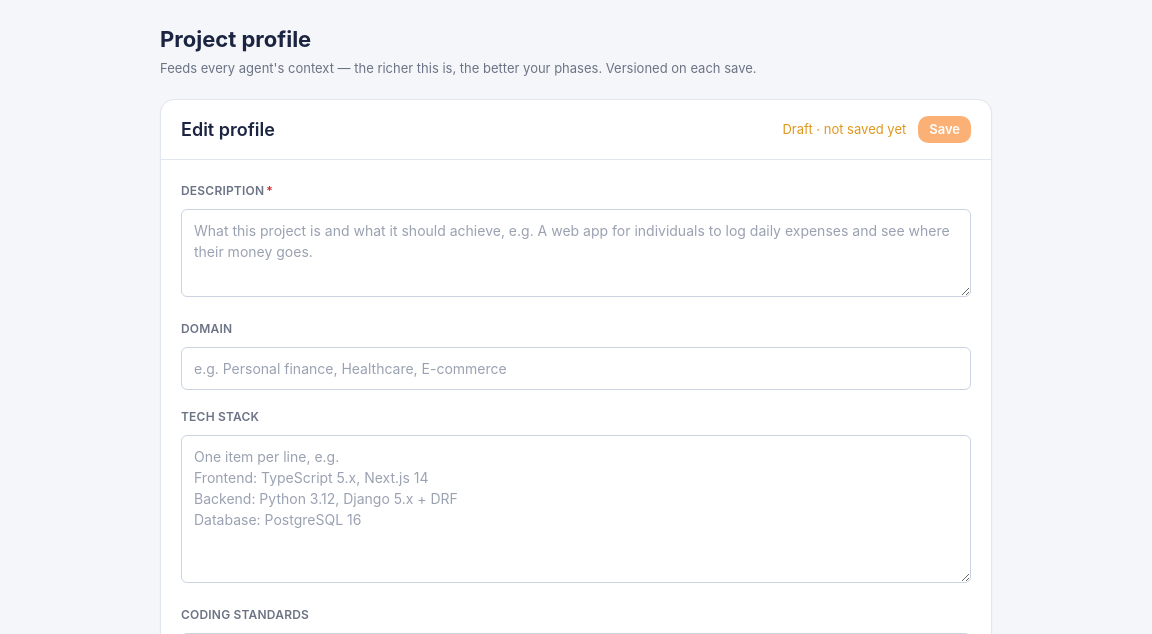
Test: pressing Save with no description › says why, instead of doing nothing
The width and height of the screenshot is (1152, 634).
Note: Make the form dirty so Save is live, exactly as a real user would.
In the field with placeholder "e.g. Personal finance, Healthcare, E-commerce": (576, 368) top-left (181, 347), bottom-right (971, 390), type "Personal finance"
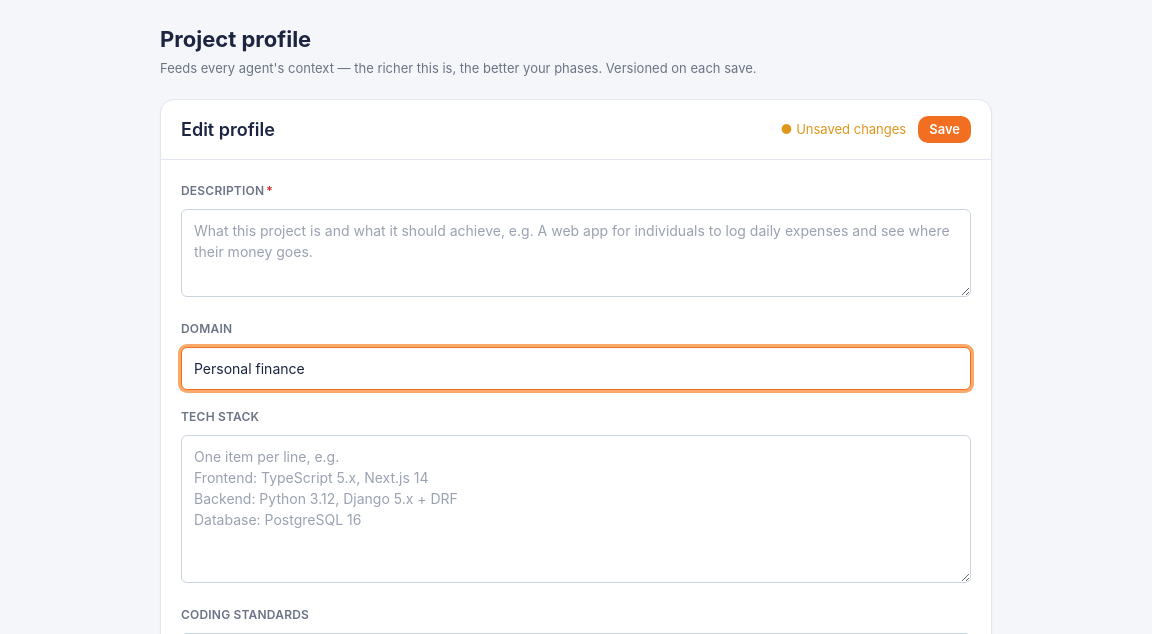
Click the button "Save": (945, 130) top-left (918, 116), bottom-right (971, 143)
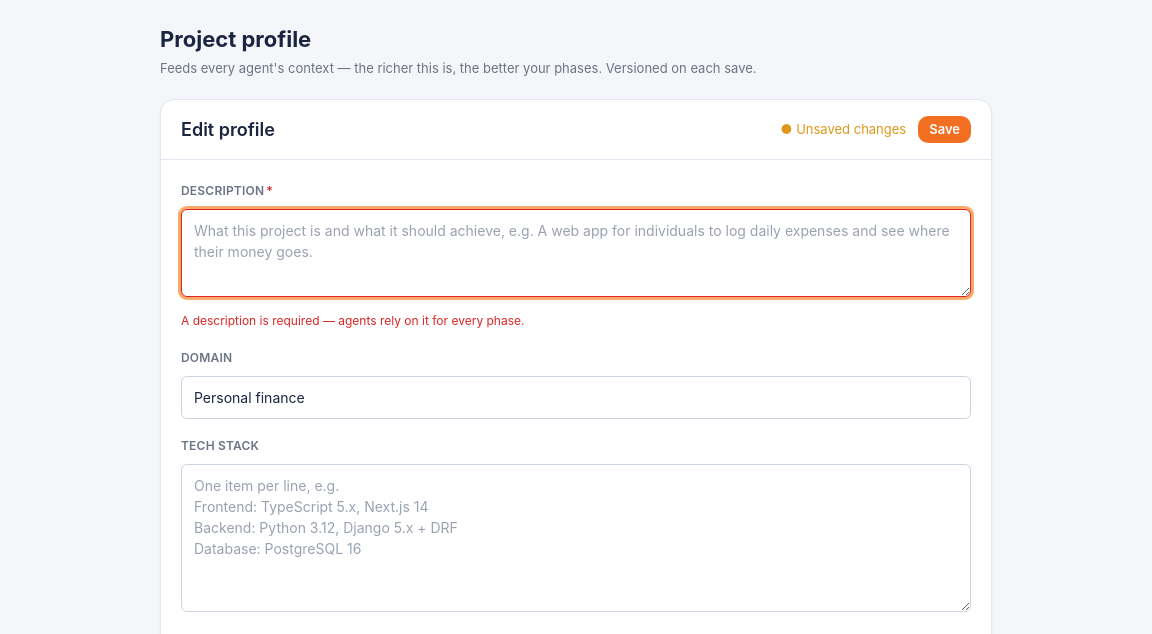
Result: the text "A description is required — agents rely on it for every phase" is shown at top-left (181, 313), bottom-right (524, 328)
